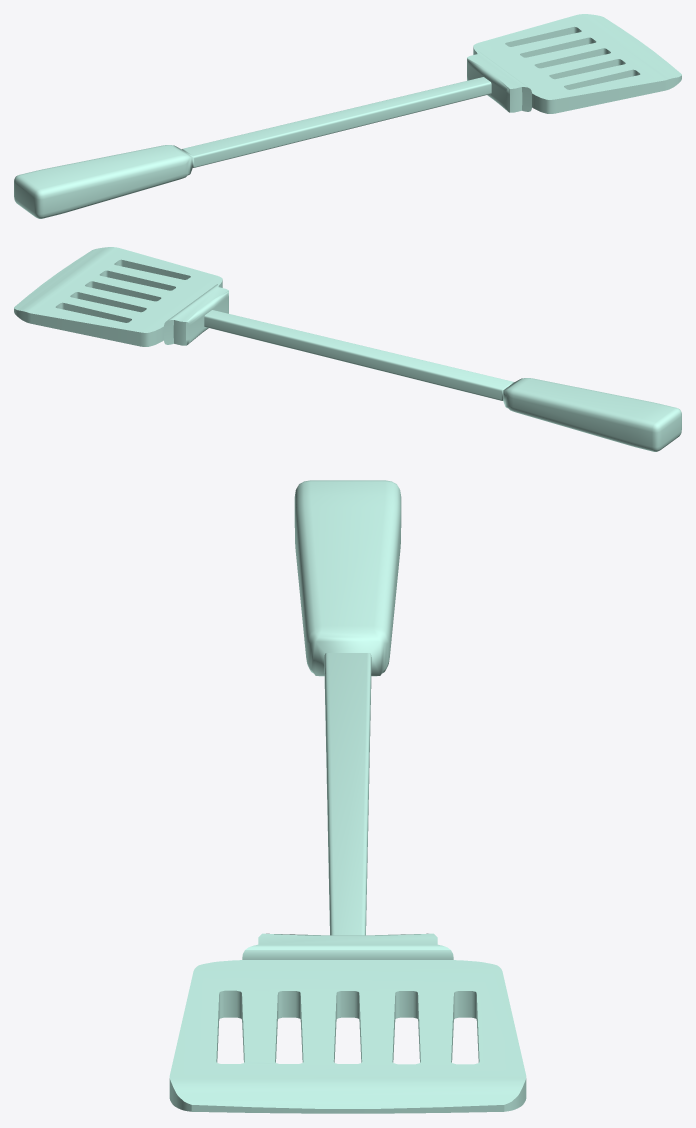
The model's file is guochan.fbx.
The picture shows the model from 3 angles, top to bottom: view 1: azimuth 30°, elevation 25°; view 2: azimuth 150°, elevation 25°; view 3: azimuth 270°, elevation 25°; orthographic projection. The views are drawn at different scales.
Parts seen in each view (by area): view 1: 铲子; view 2: 铲子; view 3: 铲子.
Boxes of the visible parts, x1,y1,x2,y2 form: 铲子: (14,14,681,218); 铲子: (14,247,681,451); 铲子: (169,480,526,1113).
Bounding box in the file's own units: 8.2 × 0.3646 × 2.04.
